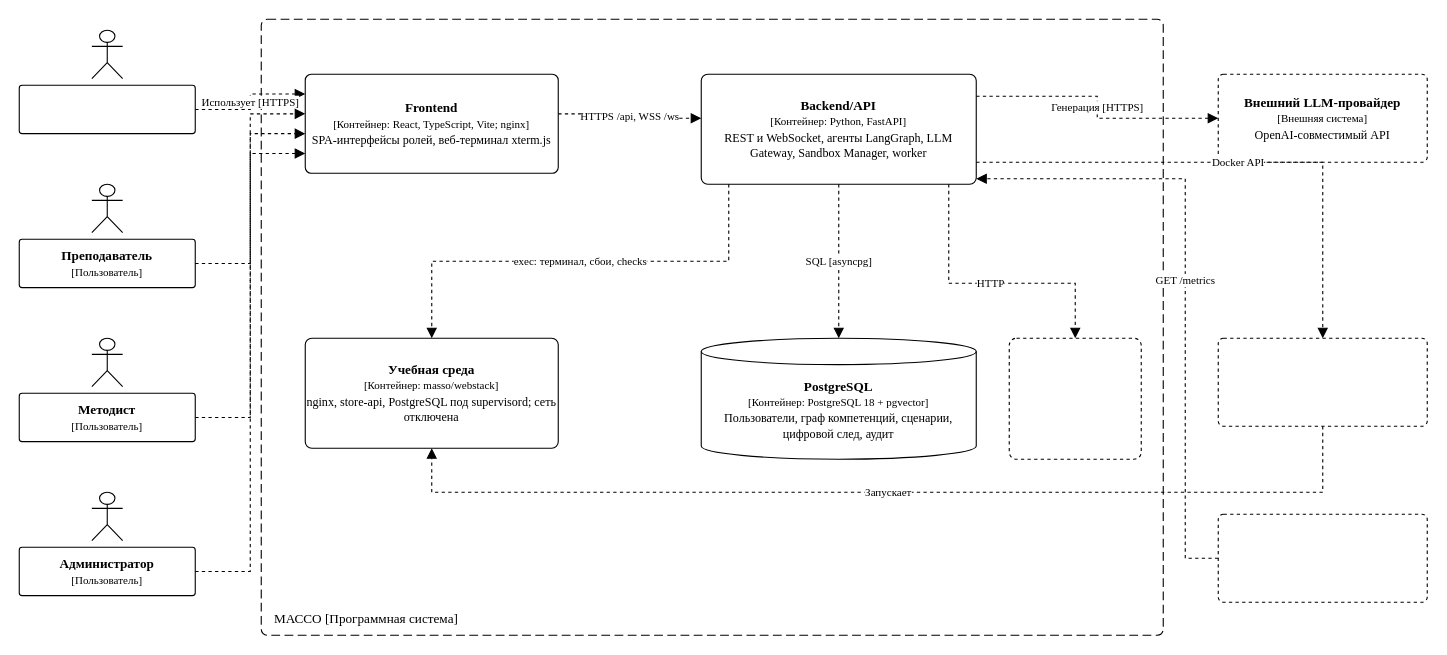
This 1447x655 diagram has some shape labels left out. Here are the shapes that lost their labels. From the top down, the box of each, then its label:
(18, 84, 195, 134): Обучающийся [Пользователь]
(1008, 337, 1141, 459): Ollama [Контейнер, опционально] Локальная модель и embeddings
(1217, 337, 1427, 426): Docker Engine [Внешняя система] API контейнеров стенда
(1217, 513, 1427, 602): Prometheus [Внешняя система, опционально] Сбор метрик /metrics
